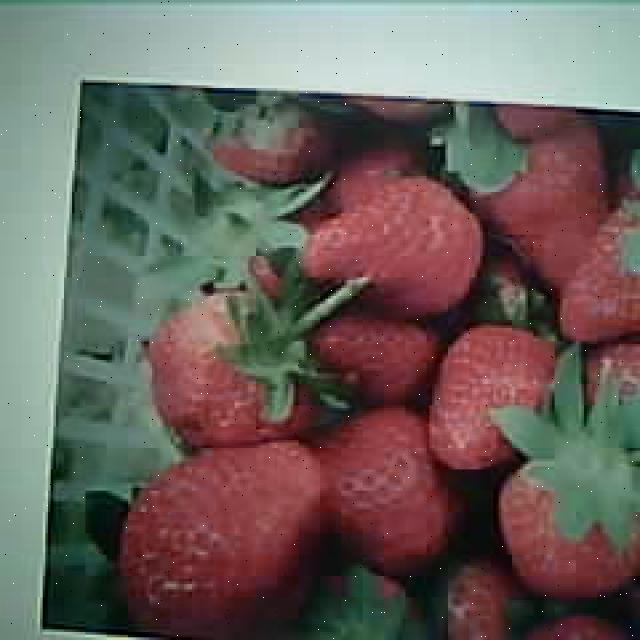ripe: (120, 439, 320, 636), (306, 182, 480, 312), (433, 325, 558, 469)
